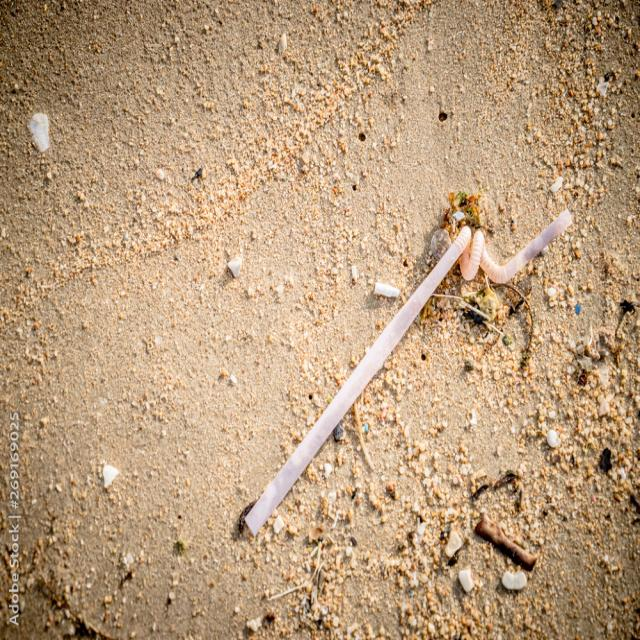plastic: (216, 166, 568, 554)
